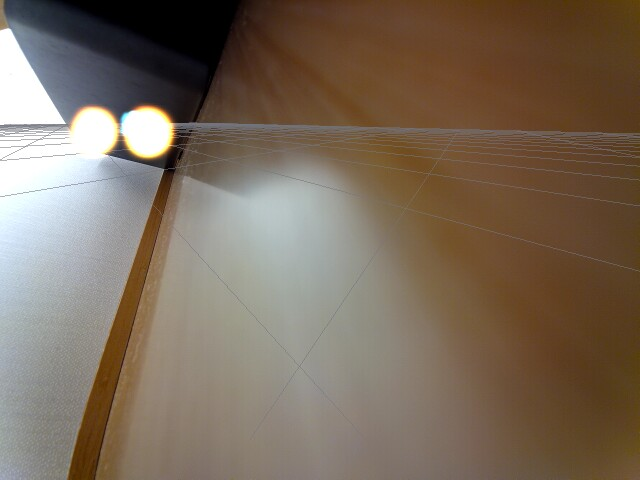firebig: (126, 103, 176, 164)
